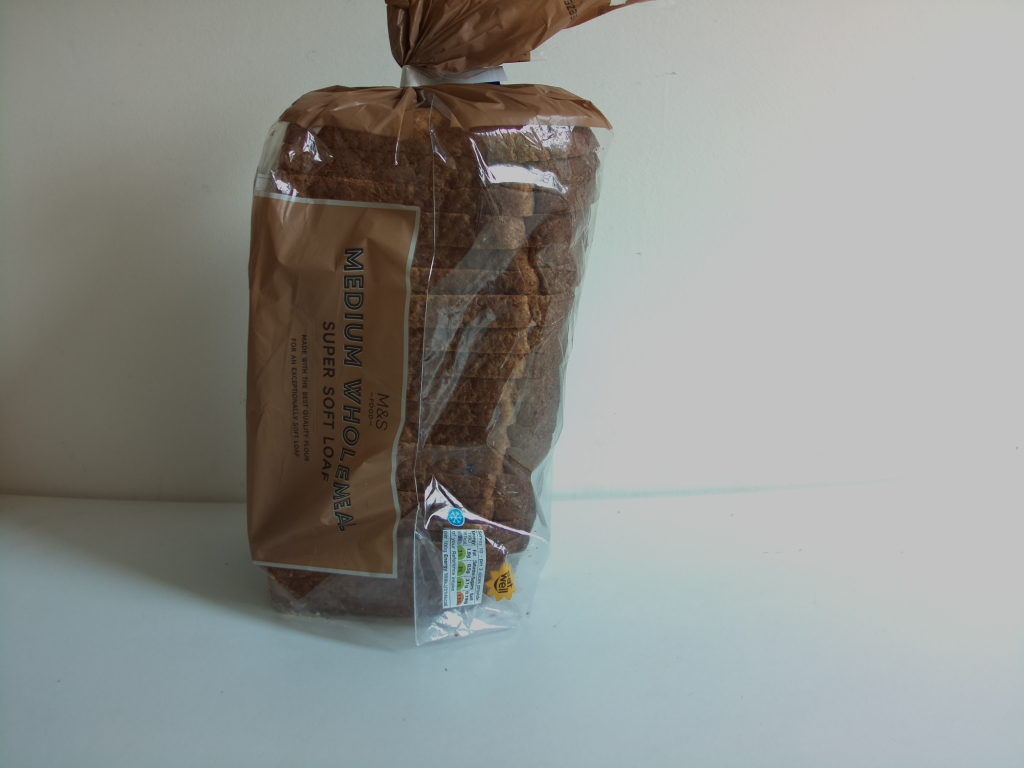bread: (242, 1, 654, 647)
